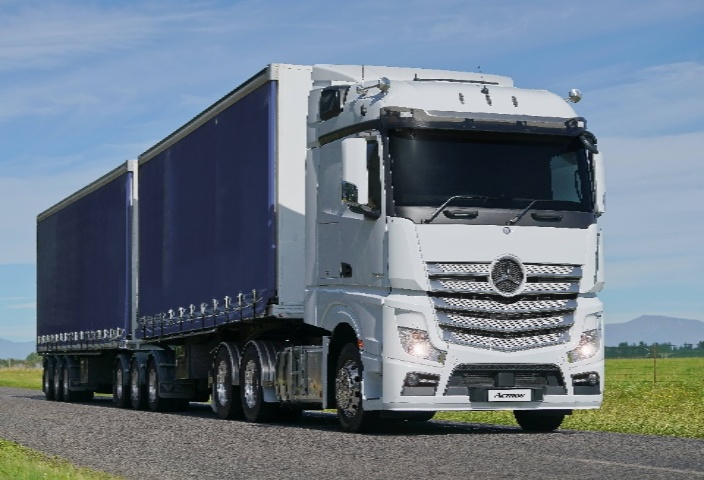truck: (1, 62, 637, 442)
